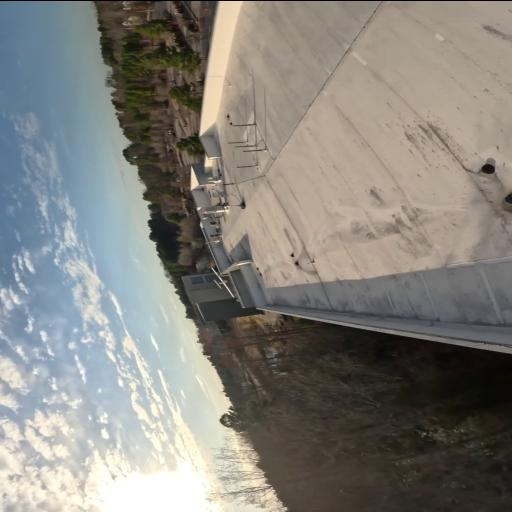uav: (208, 264, 238, 298)
